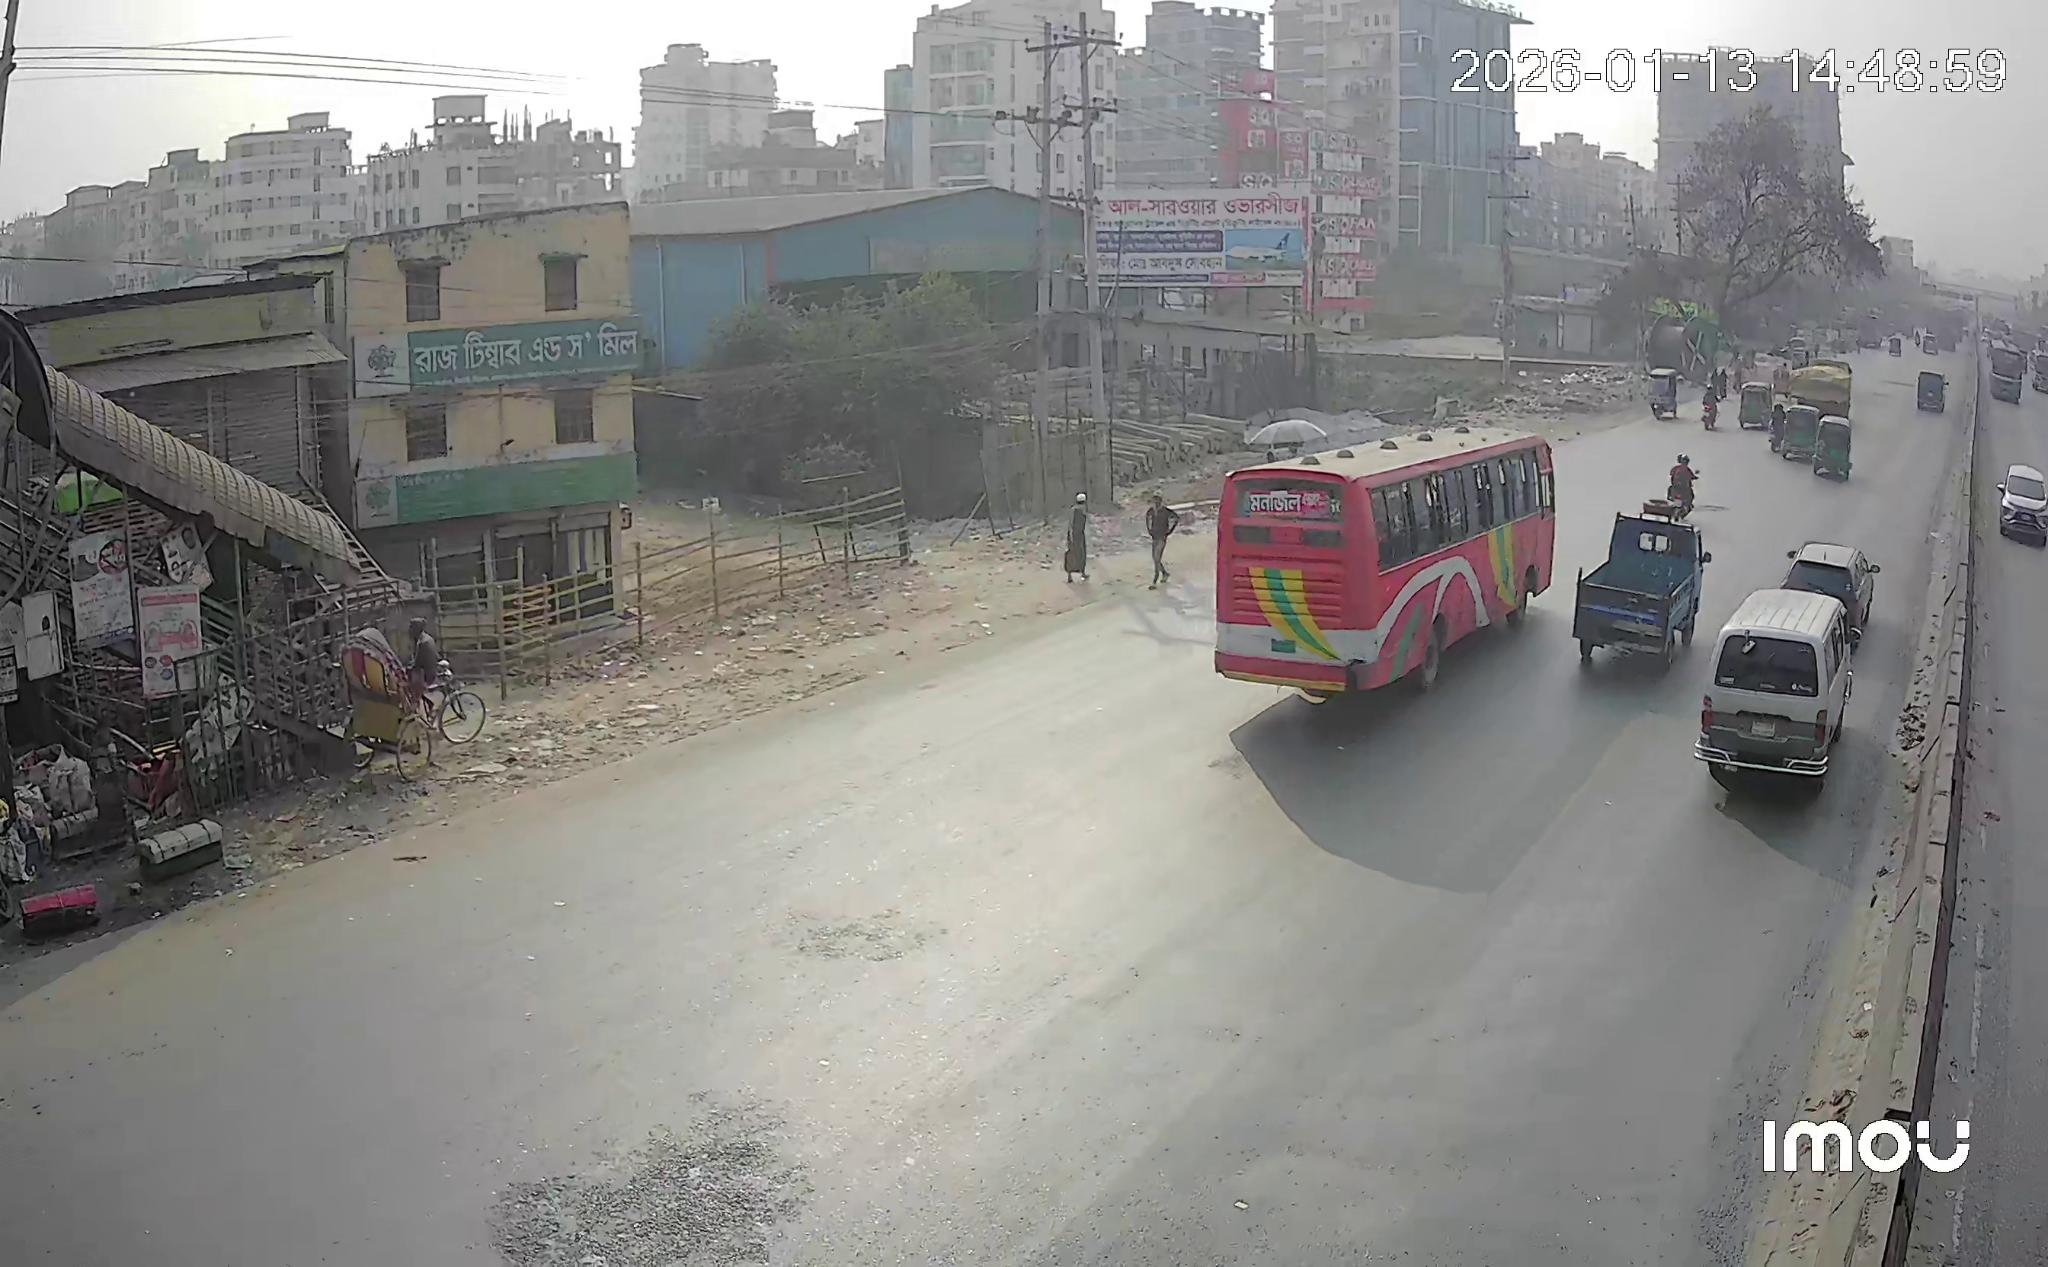Bus: (1214, 423, 1558, 701)
CNG-Tempo: (1774, 405, 1821, 462), (1812, 416, 1852, 481), (1736, 382, 1773, 429)
Microbus: (1694, 588, 1853, 789), (1997, 465, 2047, 547)
Motorcycle: (1668, 455, 1695, 516)
Private-Sedan Car: (1782, 541, 1881, 644)
Truck: (1573, 484, 1712, 667)
